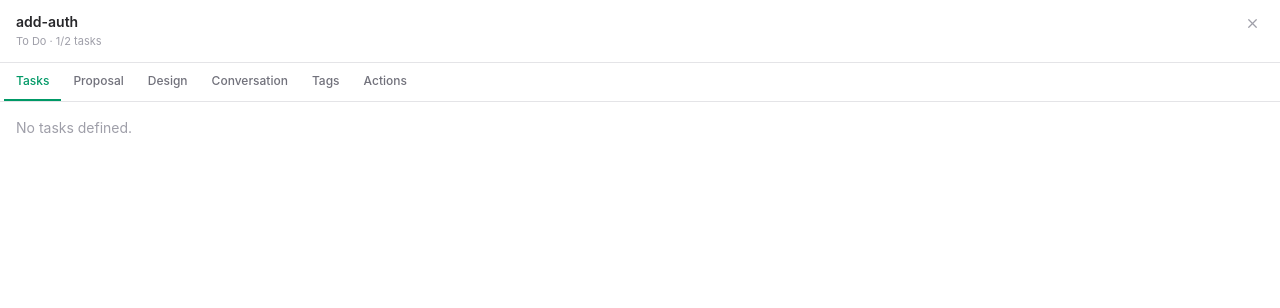
Test: DetailPanel verification section › shows the inherited value next to "Inherited"
The image size is (1280, 308).
Click the button "Actions" at (385, 82), box [352,63,419,101]
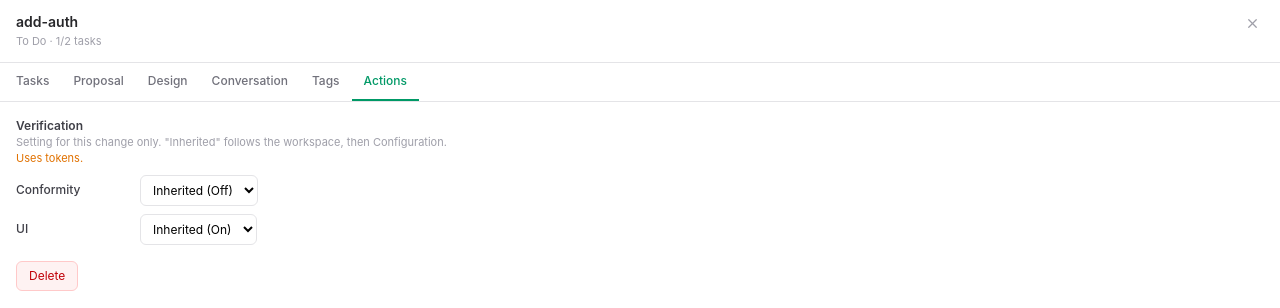
expect the dropdown named "UI" shows "Inherited (On)": met, box [140,214,257,245]
